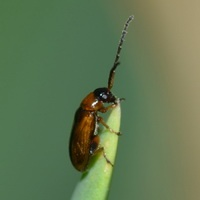insect: (69, 16, 133, 170)
